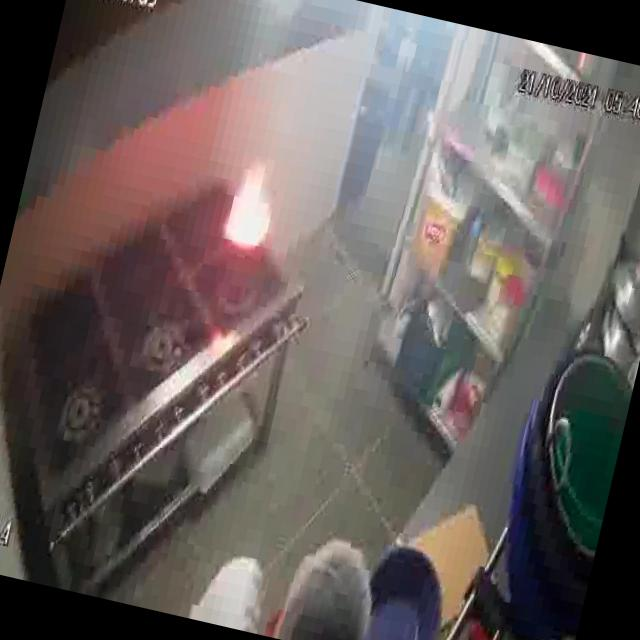Fire: (218, 154, 286, 256)
